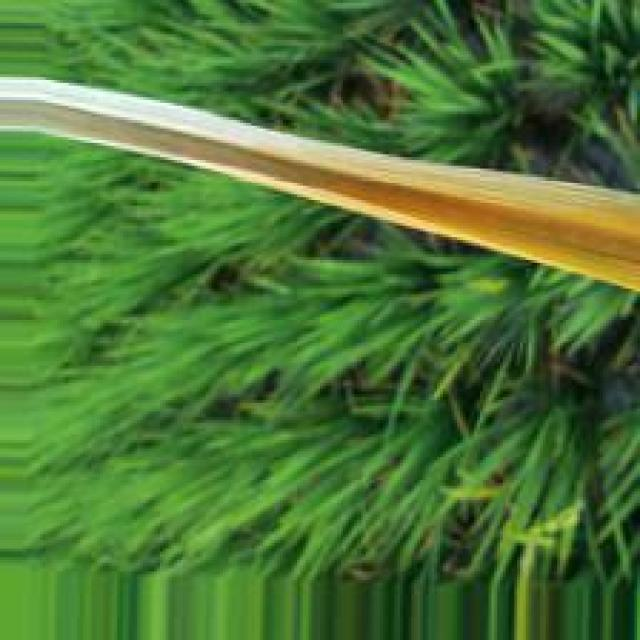Bacterial_Leaf_Blight: (157, 103, 640, 302)
